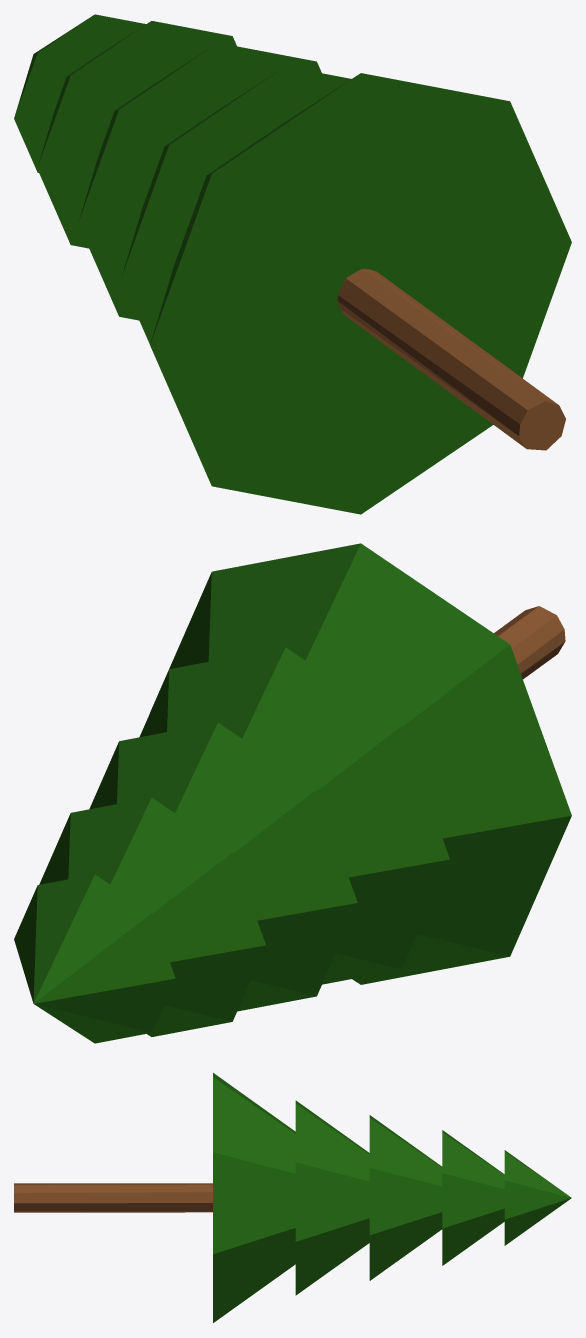
Rendered from Pohon0.fbx.
3 renders of one model, top to bottom at view 1: azimuth 30°, elevation 25°; view 2: azimuth 150°, elevation 25°; view 3: azimuth 270°, elevation 25°, orthographic. The views are drawn at different scales.
Visible parts, largest first — view 1: Pine Tree; view 2: Pine Tree; view 3: Pine Tree.
Part boxes in pixels (box(x1,y1,x2,y2)): Pine Tree: box(14, 14, 571, 514); Pine Tree: box(14, 543, 571, 1043); Pine Tree: box(14, 1073, 571, 1322).
Size of the model in its own units: 129 by 129 by 270.
